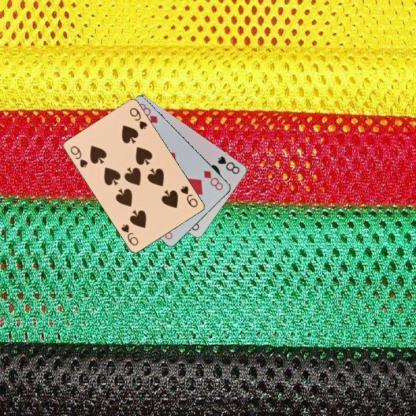8d: (201, 168, 224, 192)
8s: (215, 153, 241, 175)
9s: (178, 183, 200, 209), (68, 143, 90, 169)
